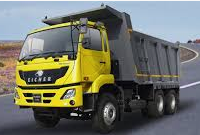truck: (7, 3, 185, 132)
